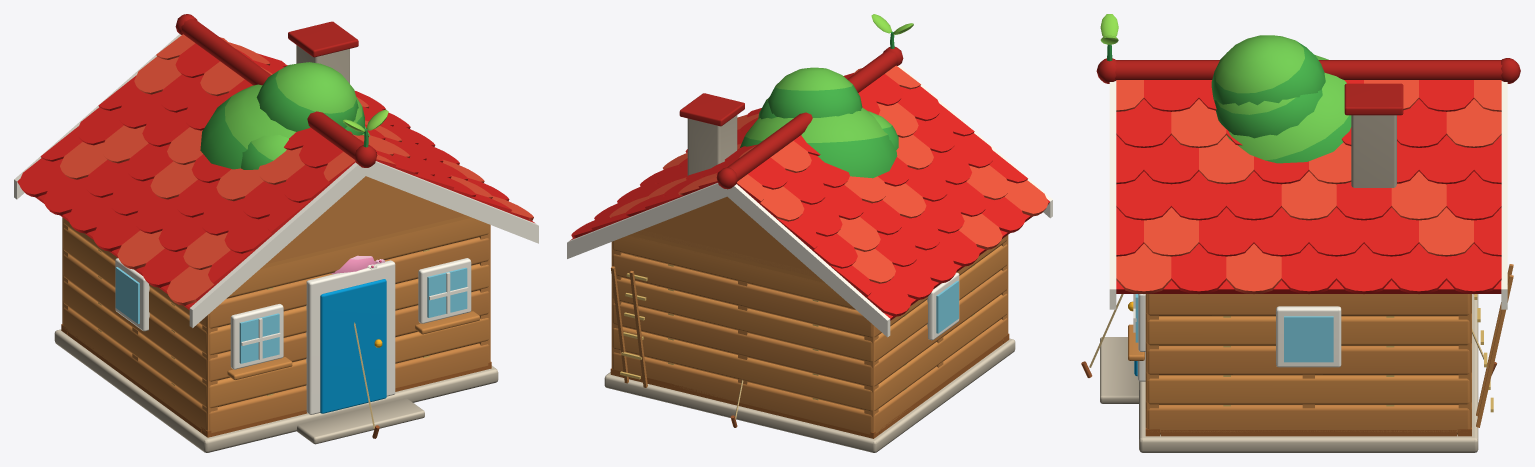
Rendered from kingdom_kit.glb.
3 views of the same model, side by side, from view 1: azimuth 30°, elevation 25°; view 2: azimuth 150°, elevation 25°; view 3: azimuth 270°, elevation 25° (orthographic). The views are drawn at different scales.
Parts seen in each view (by area): view 1: KK_Cabin, KK_Tree_Wild_A, KK_Cabin_Frame, KK_Tree_Round; view 2: KK_Cabin, KK_Tree_Wild_A, KK_Cabin_Frame, KK_Tree_Round; view 3: KK_Cabin, KK_Tree_Wild_A, KK_Cabin_Frame, KK_Tree_Round.
Part boxes in pixels (x1,y1,x2,y2): KK_Cabin: (14,14,538,452); KK_Tree_Wild_A: (200,62,369,169); KK_Cabin_Frame: (61,215,491,437); KK_Tree_Round: (241,97,364,169); KK_Cabin: (567,14,1052,452); KK_Tree_Wild_A: (740,67,897,178); KK_Cabin_Frame: (610,230,1009,438); KK_Tree_Round: (758,98,898,150); KK_Cabin: (1096,14,1520,452); KK_Tree_Wild_A: (1211,35,1351,163); KK_Cabin_Frame: (1145,264,1513,436); KK_Tree_Round: (1214,89,1322,138).
Bounding box in the file's own units: 7.03 × 6.04 × 6.74.
